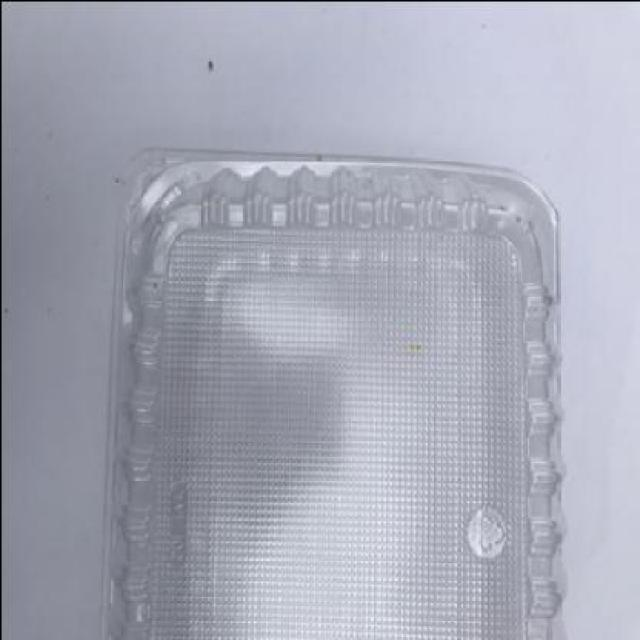PLASTIC: (96, 145, 567, 638)
